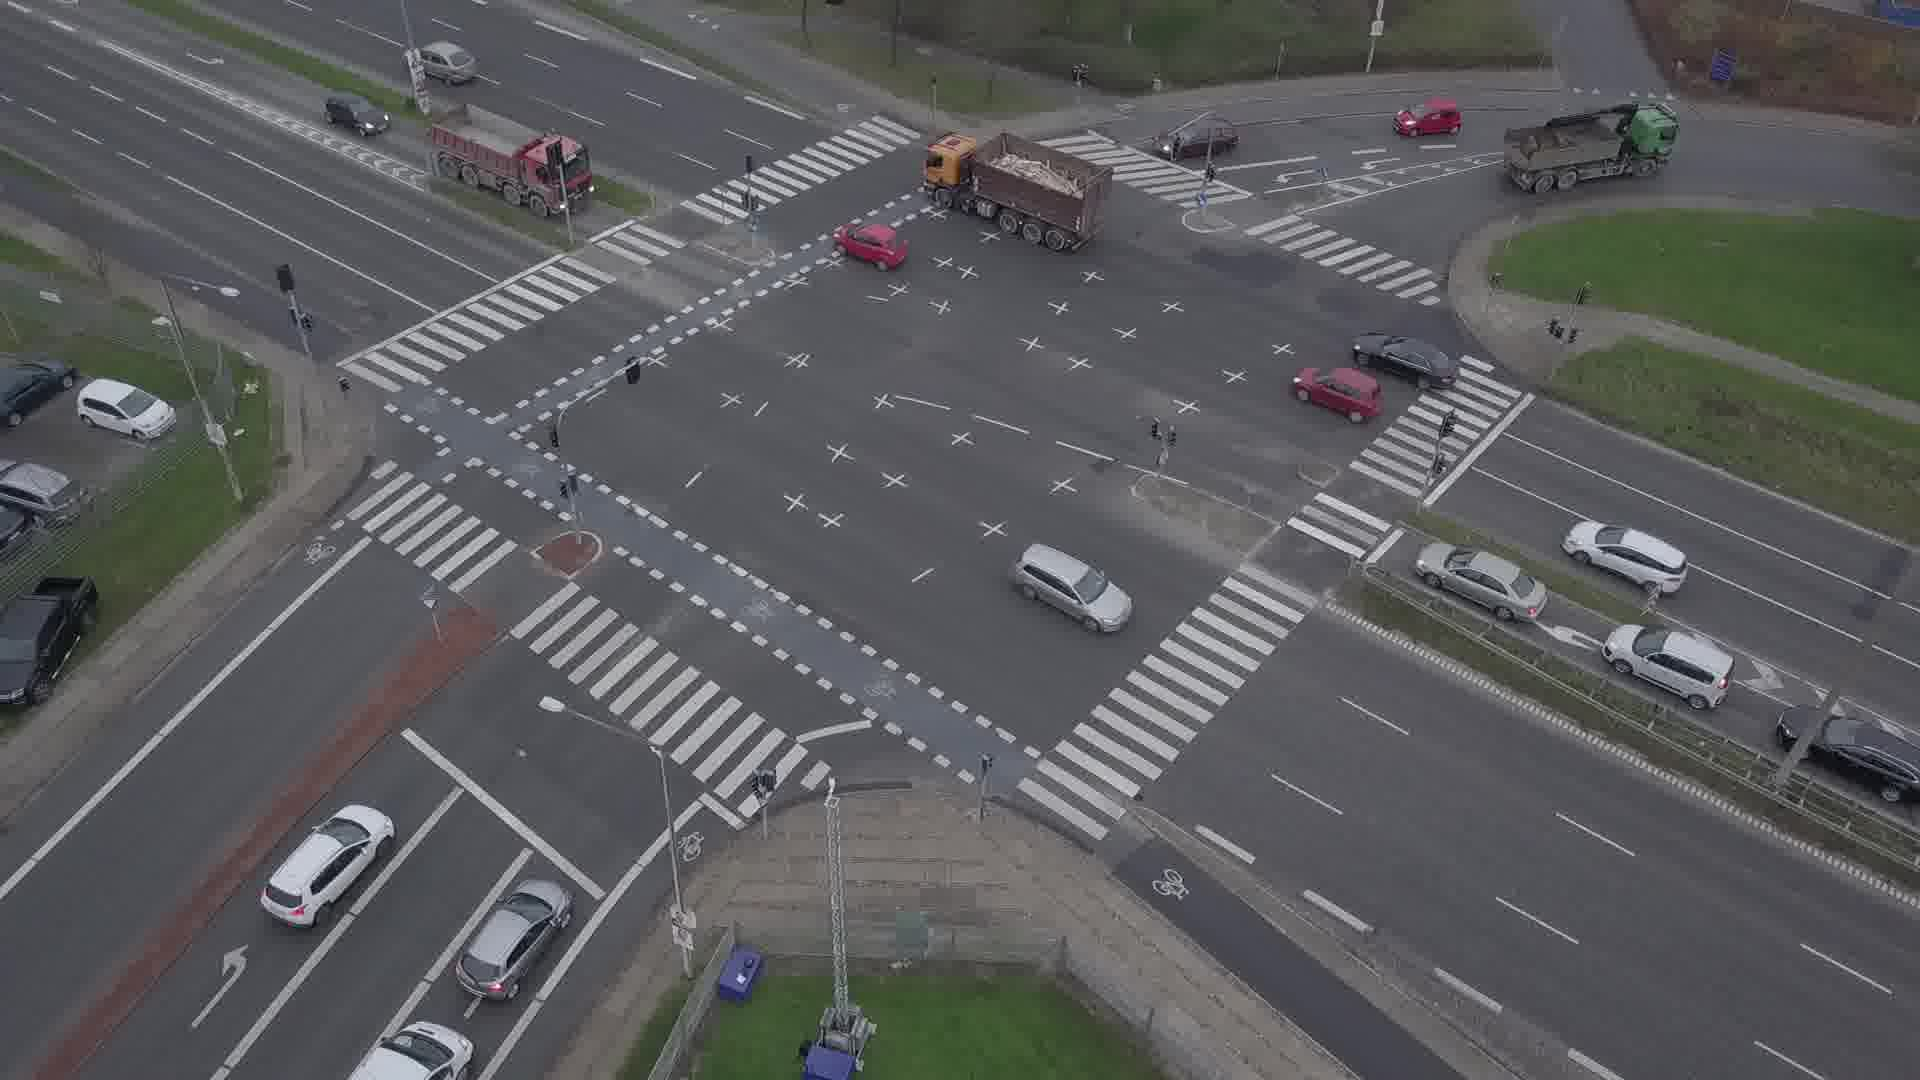car: (260, 805, 396, 926), (455, 878, 573, 1001), (1777, 706, 1920, 804), (1601, 623, 1736, 710), (1414, 542, 1547, 623), (1015, 542, 1133, 632), (1562, 520, 1687, 595), (1353, 334, 1460, 390), (1293, 367, 1384, 423), (832, 224, 907, 271), (403, 41, 478, 84), (1157, 120, 1239, 158), (324, 91, 390, 138), (1395, 100, 1461, 137)
lorry: (924, 131, 1112, 250), (426, 102, 595, 216), (1505, 102, 1678, 192), (343, 1020, 474, 1080)
